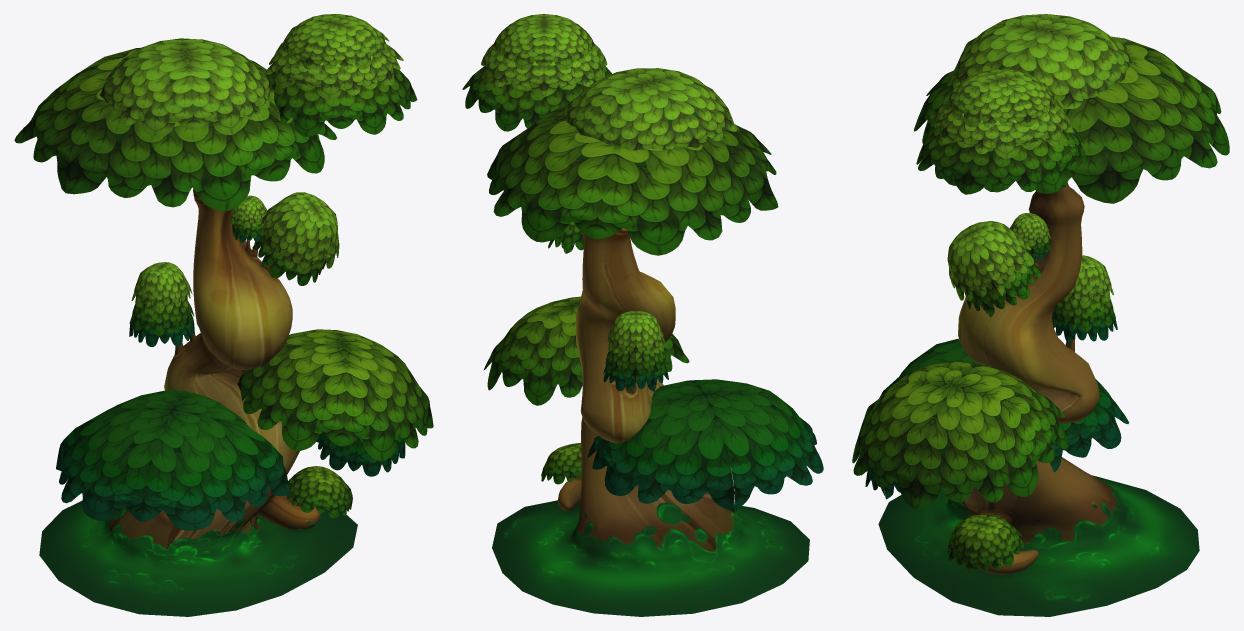
Rendered from strange_forest_tree07.fbx.
The picture shows the model from 3 angles, left to right: view 1: azimuth 30°, elevation 25°; view 2: azimuth 150°, elevation 25°; view 3: azimuth 270°, elevation 25°; orthographic projection. The views are drawn at different scales.
Visible parts, largest first — view 1: strangeForestTree07; view 2: strangeForestTree07; view 3: strangeForestTree07.
Part boxes in pixels (<box>): strangeForestTree07: <box>14,14,433,616</box>; strangeForestTree07: <box>462,14,823,616</box>; strangeForestTree07: <box>852,14,1229,616</box>.
Size of the model in its own units: 135 by 190 by 124.
Materials: 1 (1 with a texture image).
